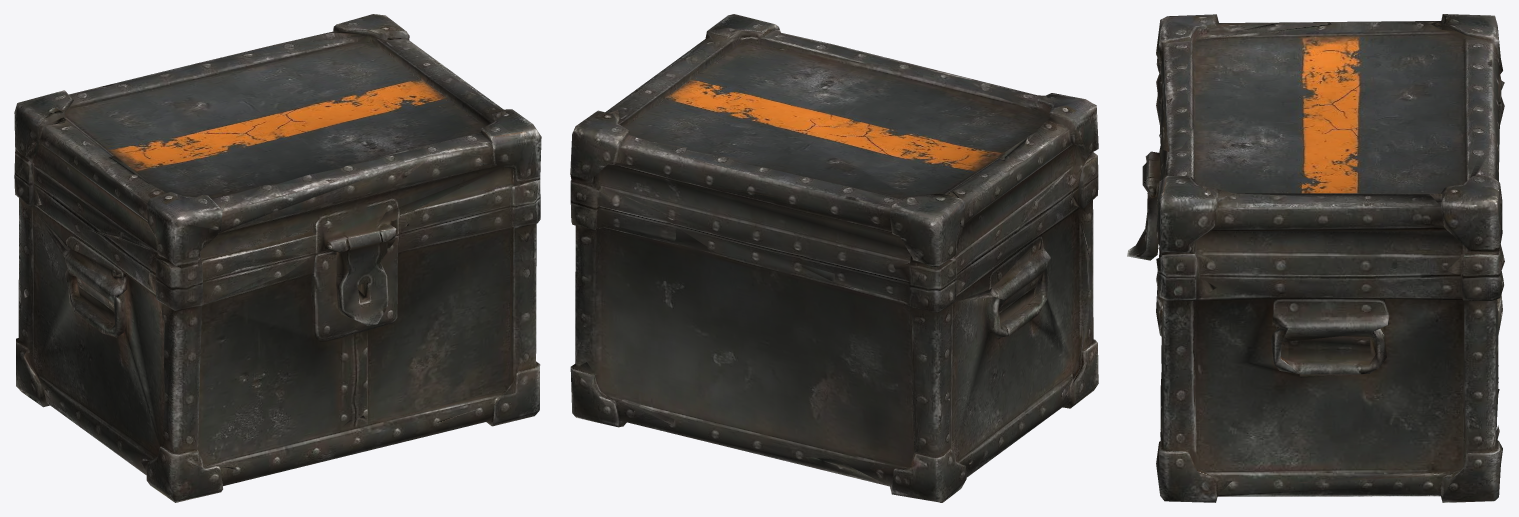
The model's file is storagechest.glb.
3 views of the same model, side by side, from view 1: azimuth 30°, elevation 25°; view 2: azimuth 150°, elevation 25°; view 3: azimuth 270°, elevation 25° (orthographic). The views are drawn at different scales.
Parts seen in each view (by area): view 1: Mesh_0; view 2: Mesh_0; view 3: Mesh_0.
Boxes of the visible parts, <box> form: Mesh_0: <box>14,14,541,502</box>; Mesh_0: <box>570,14,1098,502</box>; Mesh_0: <box>1127,14,1504,502</box>.
Bounding box in the file's own units: 1.89 × 1.41 × 1.55.
1 material, 1 textured.
